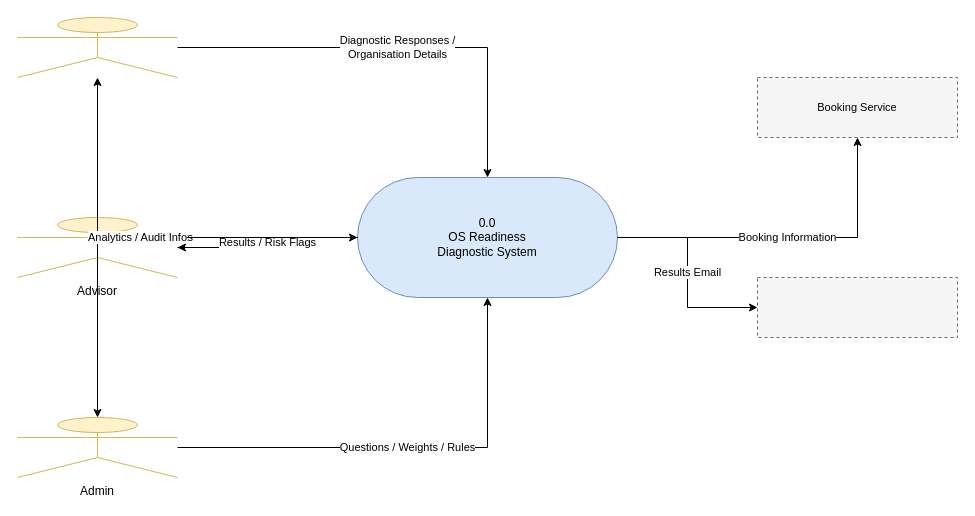
The diagram is 975 pixels wide and 516 high, and some of its shapes have lost their labels. Each missing label, with the centre of its shape:
Email Service: [857,307]
Public User: [97,47]
